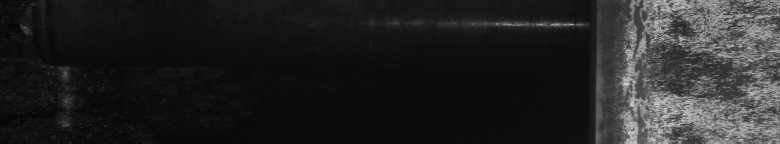kb: (619, 4, 776, 136)
